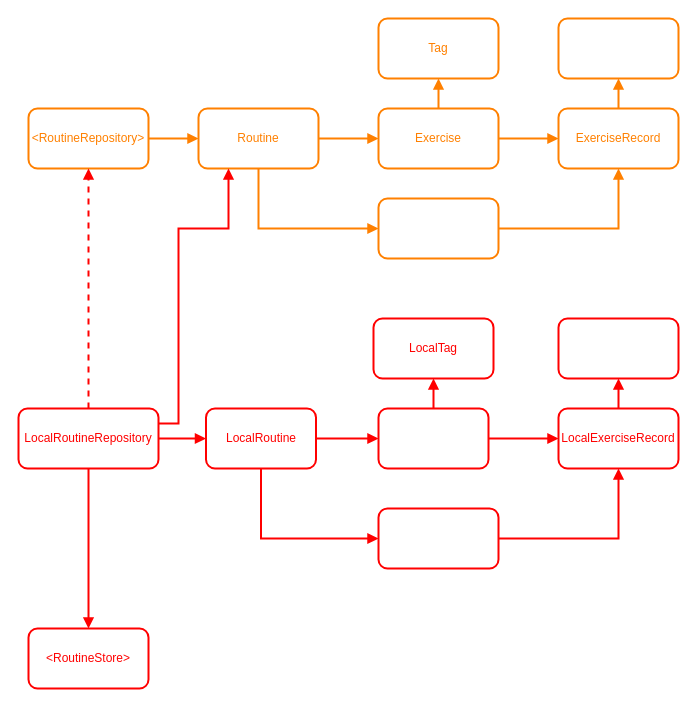
Image size: 696x706. Some labels were removed from this diagram. The shapes that lost their labels are listed below. From the top down, each one's centre as x and y in pixels, then its label:
At (x=618, y=48): "SetRecord".
At (x=438, y=228): "RoutineRecord".
At (x=618, y=348): "LocalSetRecord".
At (x=433, y=438): "LocalExercise".
At (x=438, y=538): "LocalRoutineRecord".
